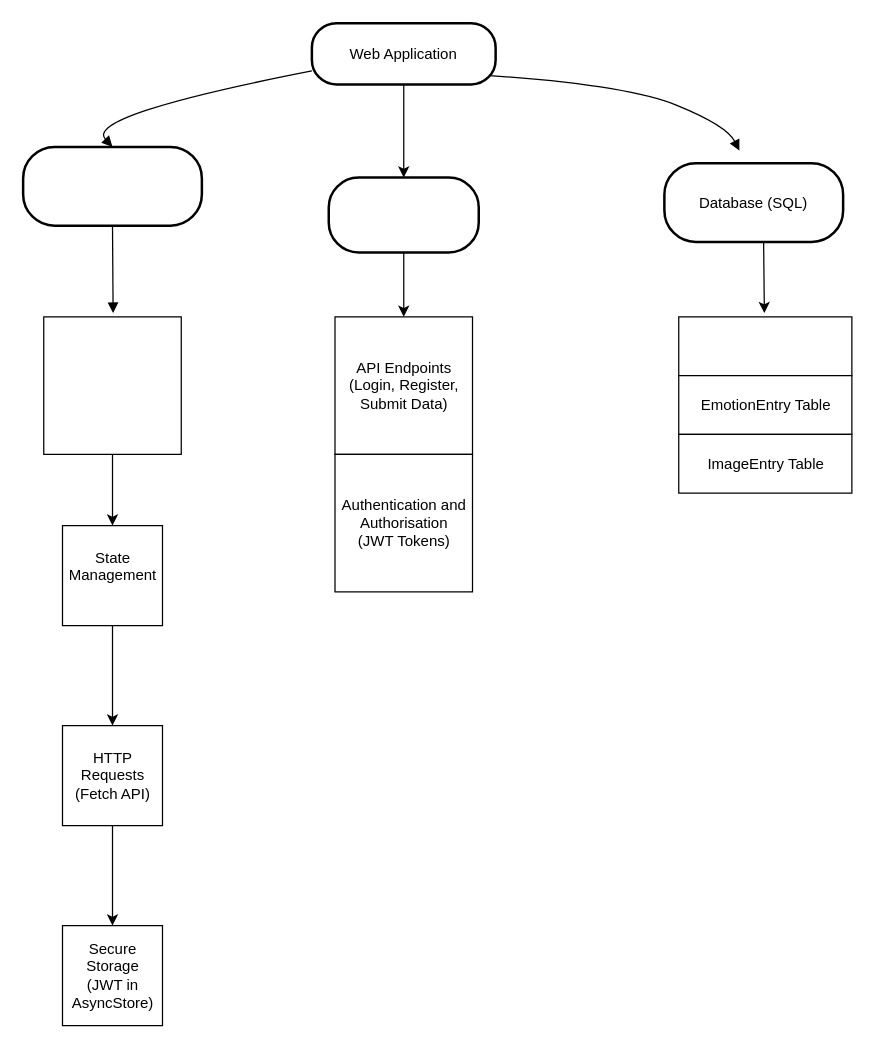
This 874x1048 diagram has some shape labels left out. The shapes that lost their labels are listed below. From the top down, each one's centre as x and y in pixels, then its label:
At pixel 111 185: "Frontend (React Native)".
At pixel 403 214: "Backend (Python Django)".
At pixel 765 346: "User Table".
At pixel 111 385: "UI Components (Login, Profile, Emotion Tracking)".
